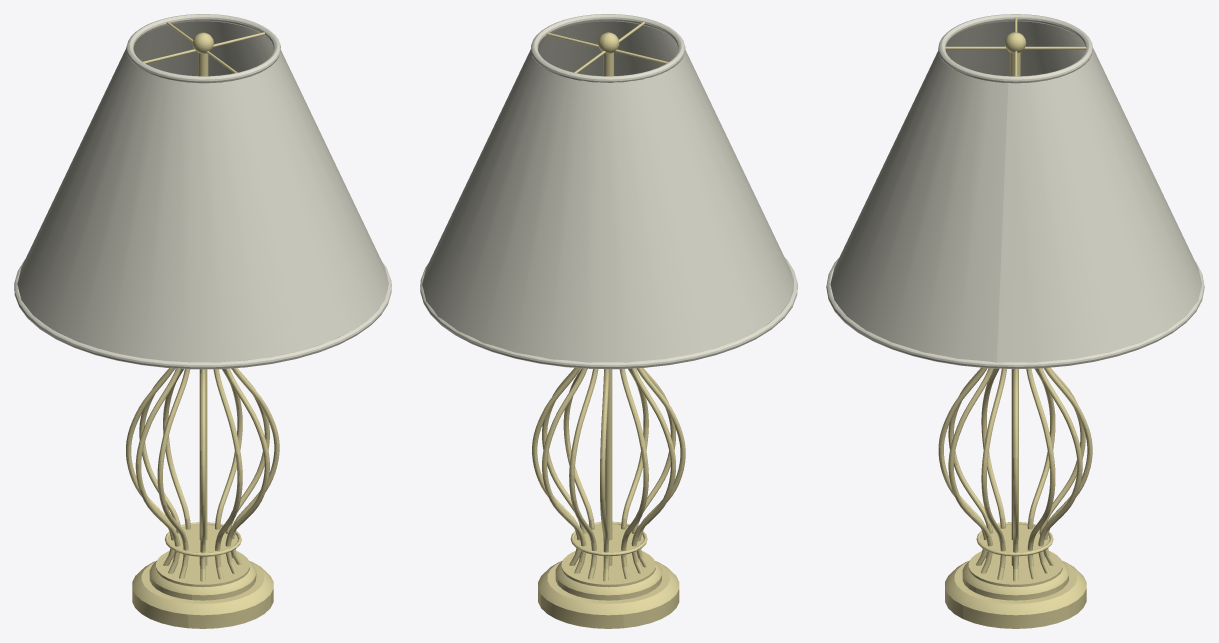
File: lamp2.obj
The picture shows the model from 3 angles, left to right: view 1: azimuth 30°, elevation 25°; view 2: azimuth 150°, elevation 25°; view 3: azimuth 270°, elevation 25°; orthographic projection.
Visible parts, largest first — view 1: lmp4shd_4_4, lmp4gold_3_3; view 2: lmp4shd_4_4, lmp4gold_3_3; view 3: lmp4shd_4_4, lmp4gold_3_3.
Part boxes in pixels (x1=…): lmp4shd_4_4: x1=14, y1=14, x2=391, y2=369; lmp4gold_3_3: x1=126, y1=21, x2=279, y2=628; lmp4shd_4_4: x1=420, y1=14, x2=797, y2=369; lmp4gold_3_3: x1=532, y1=21, x2=685, y2=628; lmp4shd_4_4: x1=826, y1=14, x2=1204, y2=368; lmp4gold_3_3: x1=938, y1=17, x2=1092, y2=628.
Size of the model in its own units: 41.6 by 68.64 by 41.6.
